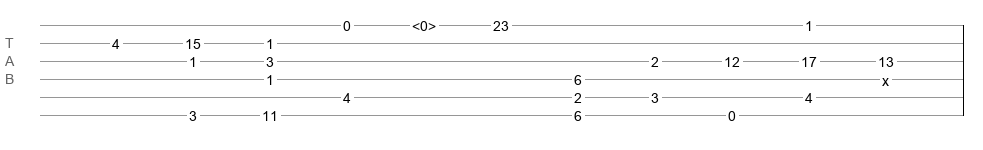0: (343, 18, 351, 28), (728, 108, 736, 118)
1: (189, 54, 197, 64), (266, 36, 274, 46), (266, 72, 274, 82), (805, 18, 813, 28)
11: (262, 108, 278, 118)
12: (724, 54, 740, 64)
13: (878, 54, 894, 64)
15: (185, 36, 201, 46)
17: (801, 54, 817, 64)
2: (574, 90, 582, 100), (651, 54, 659, 64)
23: (493, 18, 509, 28)
3: (189, 108, 197, 118), (266, 54, 274, 64), (651, 90, 659, 100)
4: (112, 36, 120, 46), (343, 90, 351, 100), (805, 90, 813, 100)
6: (574, 72, 582, 82), (574, 108, 582, 118)
harmonic: (412, 18, 436, 28)
x: (882, 73, 889, 81)
